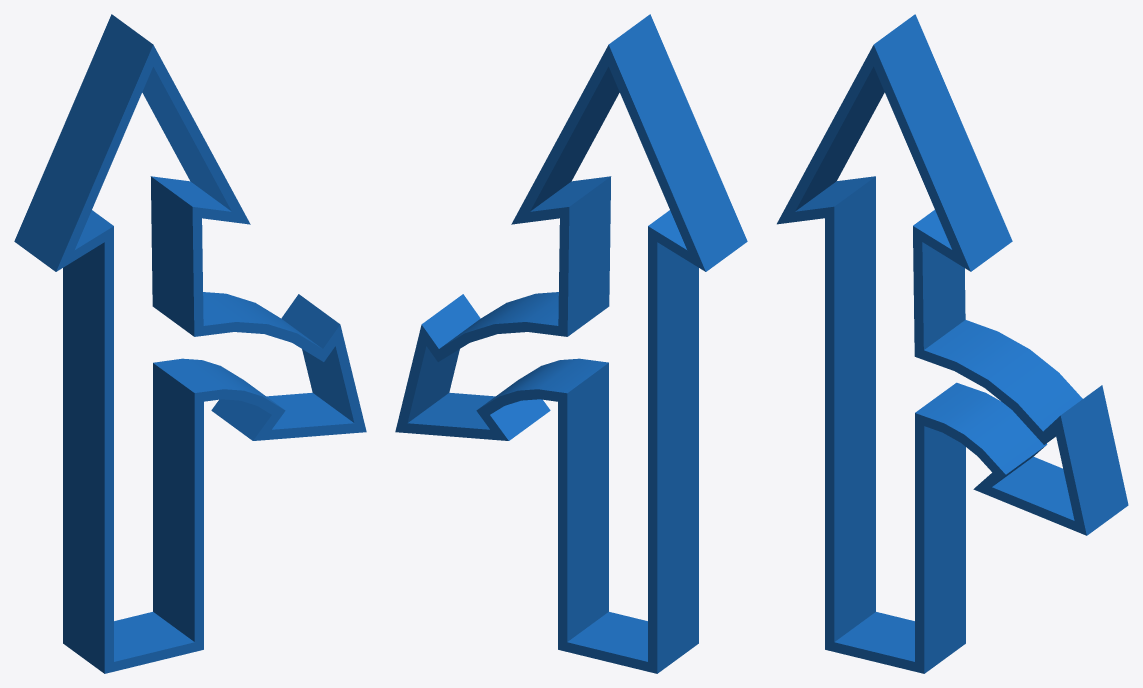
The model's file is Arrow_38.obj.
3 views of the same model, side by side, from view 1: azimuth 30°, elevation 25°; view 2: azimuth 150°, elevation 25°; view 3: azimuth 330°, elevation 25° (orthographic).
Parts seen in each view (by area): view 1: Arrow_38; view 2: Arrow_38; view 3: Arrow_38.
Part boxes in pixels (<box>): Arrow_38: <box>14,14,366,673</box>; Arrow_38: <box>395,14,747,673</box>; Arrow_38: <box>777,14,1128,673</box>.
Bounding box in the file's own units: 3.19 × 6.06 × 0.7423.
